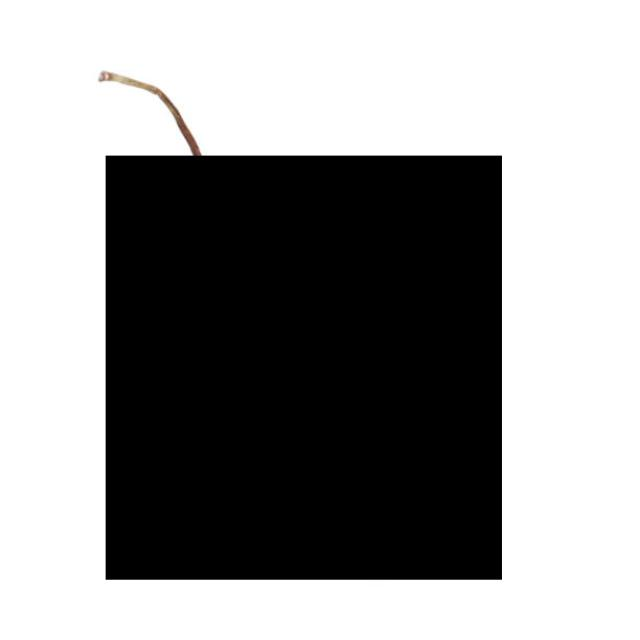Tree_Tomato: (107, 156, 503, 580)
